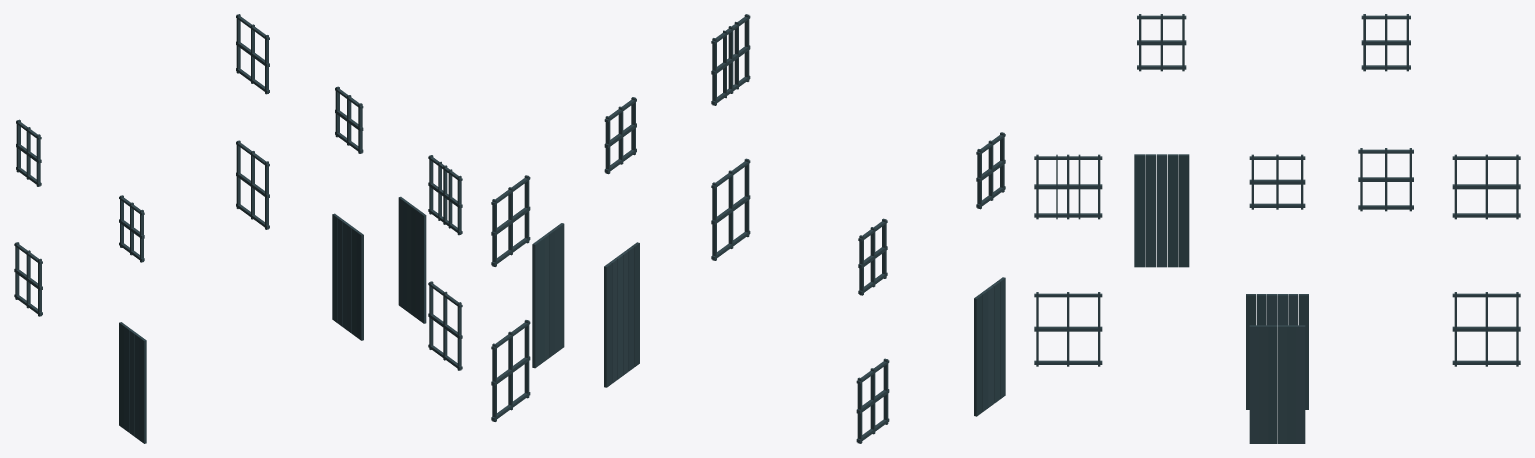
Rendered from SM_Bld_199_Wood.glb.
3 views of the same model, side by side, from view 1: azimuth 30°, elevation 25°; view 2: azimuth 150°, elevation 25°; view 3: azimuth 270°, elevation 25° (orthographic). The views are drawn at different scales.
Parts seen in each view (by area): view 1: SM_Bld_199_Wood; view 2: SM_Bld_199_Wood; view 3: SM_Bld_199_Wood.
Boxes of the visible parts, left/top/right/bottom form: SM_Bld_199_Wood: left=14, top=14, right=462, bottom=443; SM_Bld_199_Wood: left=491, top=14, right=1005, bottom=443; SM_Bld_199_Wood: left=1034, top=14, right=1520, bottom=443.
Size of the model in its own units: 6.85 by 4.55 by 7.88.
